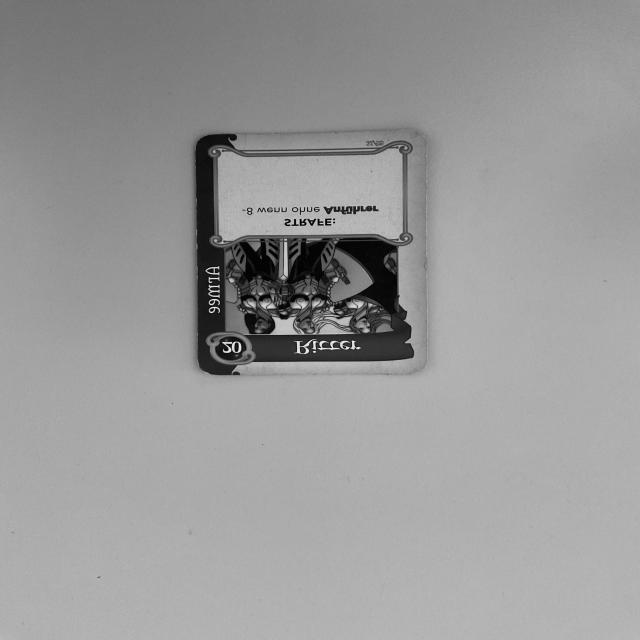Knights: (186, 124, 429, 377)
